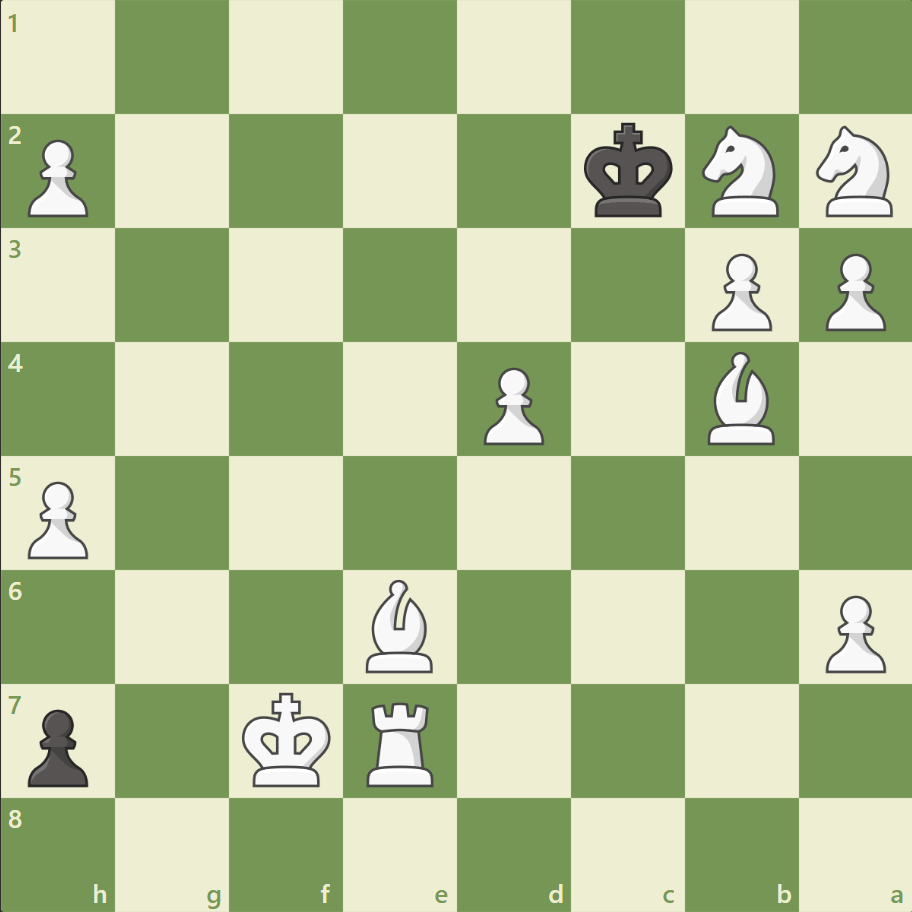B: (358, 574, 442, 676), (698, 347, 782, 449)
K: (238, 685, 338, 793)
N: (806, 121, 903, 223), (692, 121, 789, 223)
P: (20, 473, 95, 564), (474, 359, 549, 450), (701, 246, 776, 337), (20, 132, 95, 223), (815, 586, 889, 677), (815, 246, 889, 337)
R: (360, 693, 442, 790)
k: (579, 117, 679, 225)
p: (20, 700, 95, 791)
